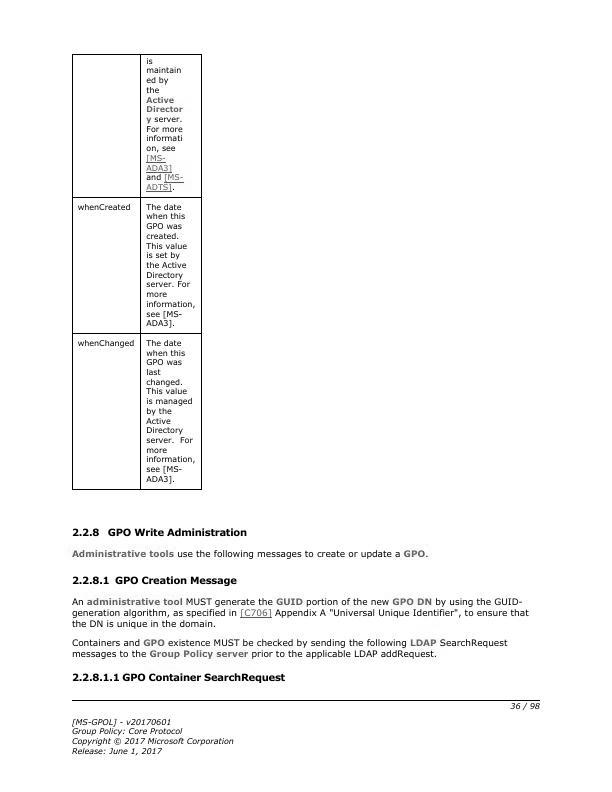table: (72, 53, 203, 492)
text: (68, 596, 531, 628), (69, 636, 511, 660), (68, 712, 235, 759), (69, 547, 432, 561), (69, 670, 292, 685), (69, 525, 248, 540), (69, 572, 240, 587)
